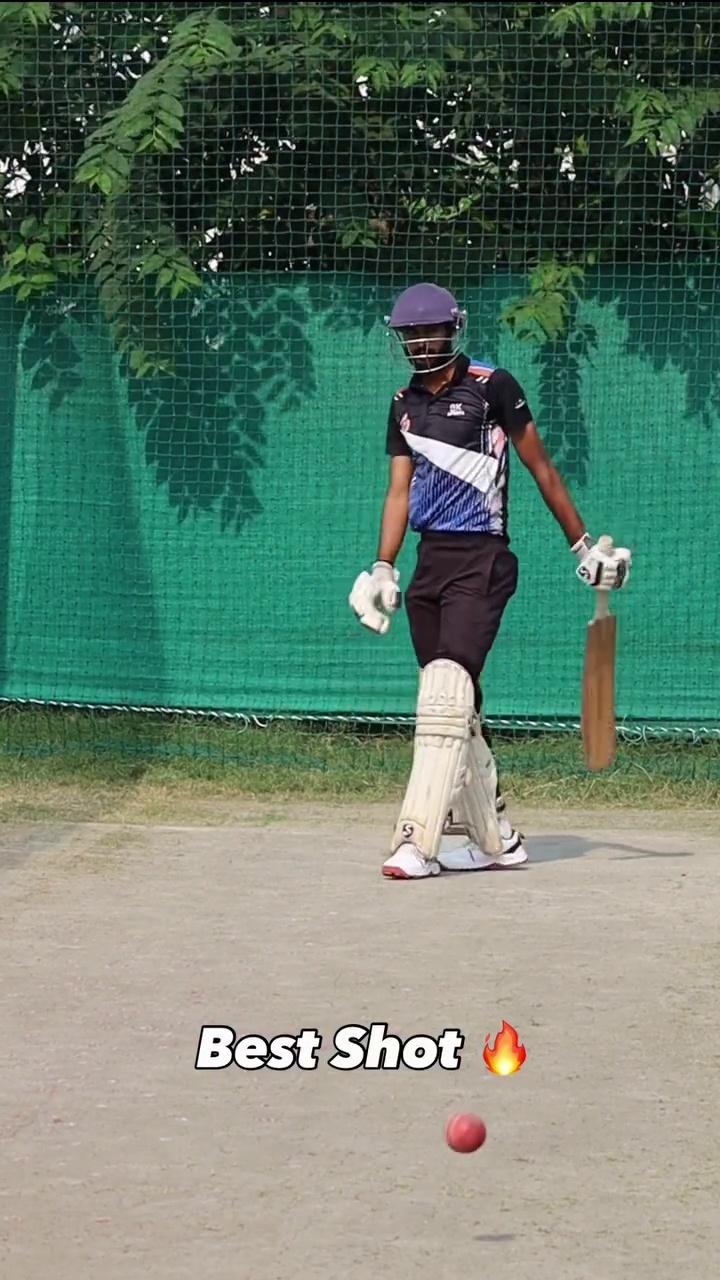bat: (578, 613, 617, 775)
